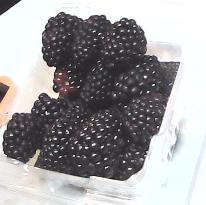berry: (67, 109, 127, 178), (98, 18, 146, 74), (123, 91, 166, 152), (111, 55, 159, 109), (77, 60, 124, 108), (32, 93, 72, 148), (34, 120, 75, 173), (41, 12, 81, 66), (70, 15, 111, 63), (53, 47, 88, 98), (2, 112, 38, 161)
